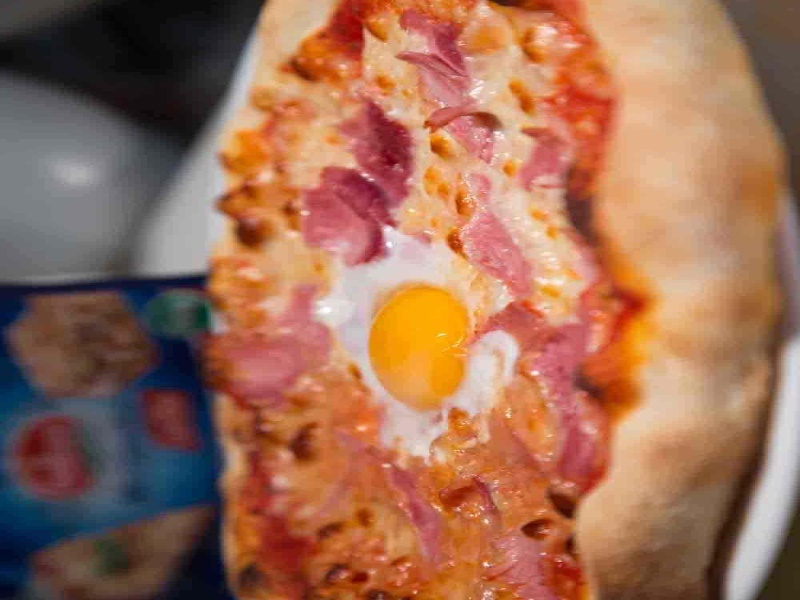oeuf: (352, 273, 483, 425)
